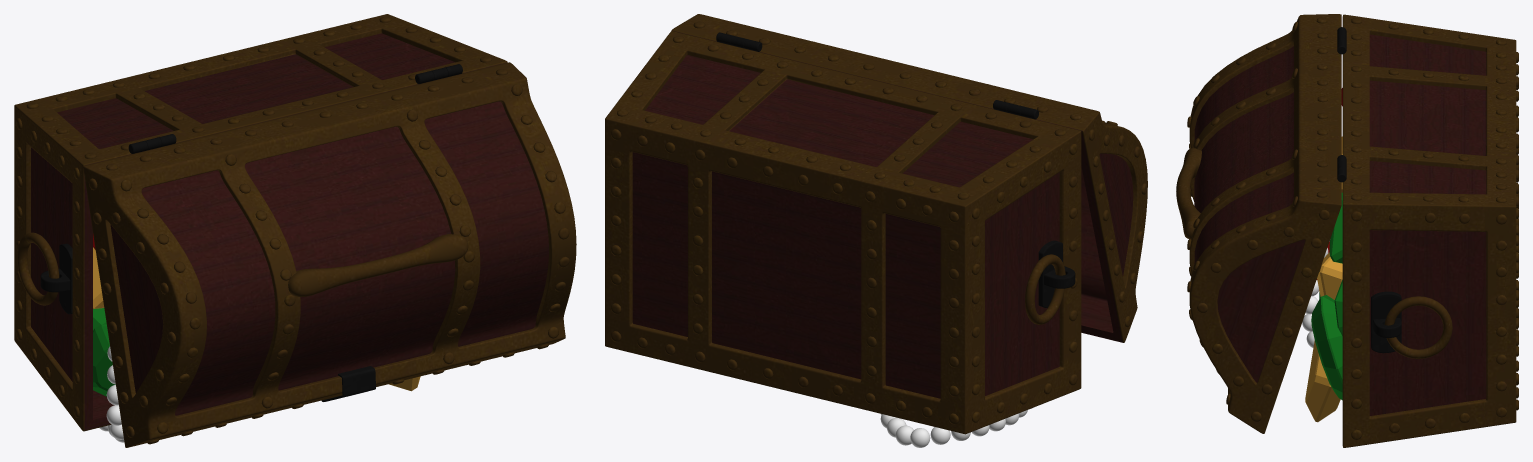
The model's file is 13019_aquarium_treasure_chest_v1_L2.obj.
The picture shows the model from 3 angles, left to right: view 1: azimuth 30°, elevation 25°; view 2: azimuth 150°, elevation 25°; view 3: azimuth 270°, elevation 25°; orthographic projection. The views are drawn at different scales.
Visible parts, largest first — view 1: aquarium_treasure_chest_wood, aquarium_treasure_chest_metal, aquarium_treasure_chest_bolts, aquarium_treasure_chest_latch, aquarium_treasure_chest_stone_green, aquarium_treasure_chest_pearl, aquarium_treasure_chest_stone_yellow; view 2: aquarium_treasure_chest_metal, aquarium_treasure_chest_wood, aquarium_treasure_chest_bolts, aquarium_treasure_chest_latch, aquarium_treasure_chest_pearl; view 3: aquarium_treasure_chest_metal, aquarium_treasure_chest_wood, aquarium_treasure_chest_bolts, aquarium_treasure_chest_stone_green, aquarium_treasure_chest_stone_yellow, aquarium_treasure_chest_latch, aquarium_treasure_chest_pearl.
Boxes of the visible parts, x1=… form: aquarium_treasure_chest_wood: x1=31, y1=33, x2=548, y2=419; aquarium_treasure_chest_metal: x1=14, y1=14, x2=576, y2=447; aquarium_treasure_chest_bolts: x1=16, y1=16, x2=569, y2=444; aquarium_treasure_chest_latch: x1=40, y1=64, x2=462, y2=401; aquarium_treasure_chest_stone_green: x1=93, y1=308, x2=115, y2=396; aquarium_treasure_chest_pearl: x1=99, y1=346, x2=124, y2=442; aquarium_treasure_chest_stone_yellow: x1=93, y1=247, x2=420, y2=391; aquarium_treasure_chest_metal: x1=605, y1=14, x2=1147, y2=434; aquarium_treasure_chest_wood: x1=632, y1=55, x2=1133, y2=398; aquarium_treasure_chest_bolts: x1=610, y1=21, x2=1147, y2=424; aquarium_treasure_chest_latch: x1=716, y1=32, x2=1075, y2=307; aquarium_treasure_chest_pearl: x1=880, y1=408, x2=1032, y2=447; aquarium_treasure_chest_metal: x1=1176, y1=14, x2=1516, y2=447; aquarium_treasure_chest_wood: x1=1194, y1=34, x2=1486, y2=415; aquarium_treasure_chest_bolts: x1=1187, y1=17, x2=1518, y2=440; aquarium_treasure_chest_stone_green: x1=1311, y1=192, x2=1342, y2=400; aquarium_treasure_chest_stone_yellow: x1=1305, y1=136, x2=1342, y2=422; aquarium_treasure_chest_latch: x1=1337, y1=27, x2=1401, y2=353; aquarium_treasure_chest_pearl: x1=1302, y1=241, x2=1329, y2=347.
Bounding box in the file's own units: 14.7 × 9.57 × 10.43.
Materials: 7 (3 with a texture image).
